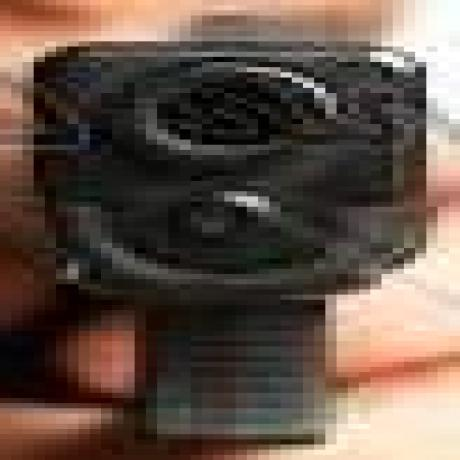weapon: (33, 34, 433, 437)
